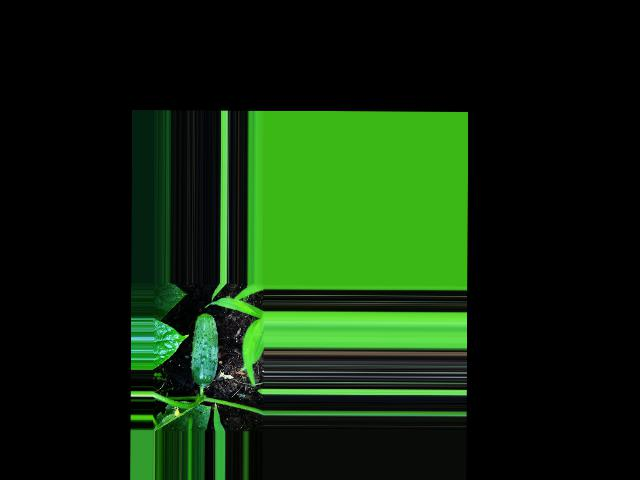cucumber: (191, 312, 219, 386)
